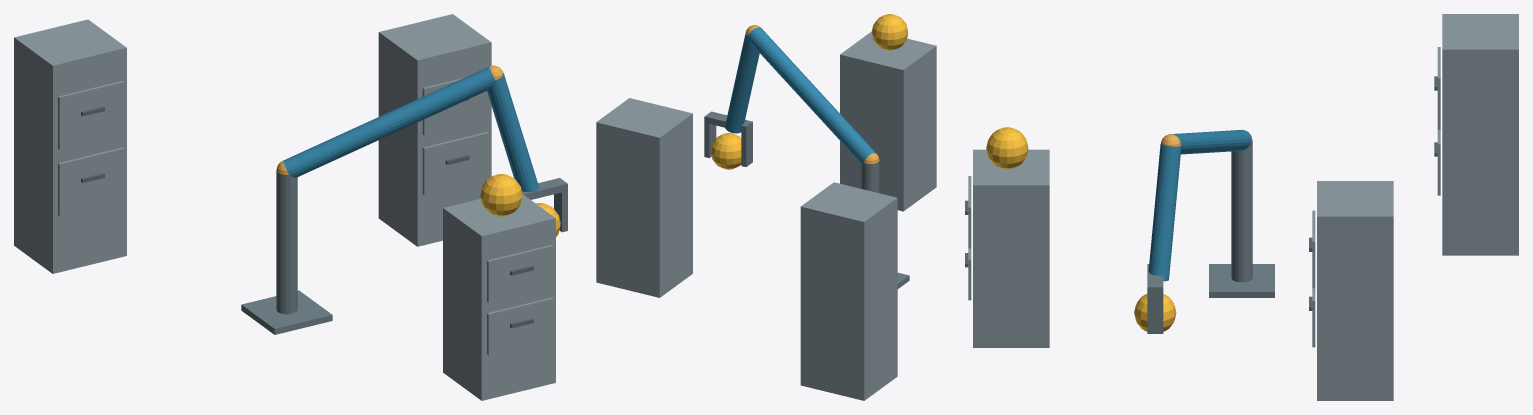
3 views of the same model, side by side, from view 1: azimuth 30°, elevation 25°; view 2: azimuth 150°, elevation 25°; view 3: azimuth 270°, elevation 25° (orthographic). The views are drawn at different scales.
Visible parts, largest first — view 1: cabinet_3 body, cabinet_1 body, cabinet_2 body, moving link 1, cabinet_3 drawer front.001, cabinet_3 drawer front, cabinet_2 drawer front, fixed post, cabinet_1 drawer front.001, cabinet_1 drawer front, moving link 2, pedestal (+3 smaller); view 2: cabinet_3 body, cabinet_2 body, cabinet_1 body, moving link 1, moving link 2, released ball_1, ball ball_2, fixed post, gripper finger -1, gripper bridge, gripper finger 1; view 3: cabinet_3 body, cabinet_2 body, cabinet_1 body, fixed post, moving link 2, pedestal, moving link 1, released ball_1, ball ball_2, gripper finger 1.
Part boxes in pixels (left/top/right/bottom): cabinet_3 body: left=14, top=19, right=126, bottom=273; cabinet_1 body: left=443, top=194, right=555, bottom=400; cabinet_2 body: left=378, top=14, right=491, bottom=246; moving link 1: left=283, top=66, right=495, bottom=177; cabinet_3 drawer front.001: left=58, top=80, right=124, bottom=149; cabinet_3 drawer front: left=58, top=147, right=124, bottom=216; cabinet_2 drawer front: left=422, top=131, right=489, bottom=195; fixed post: left=276, top=171, right=297, bottom=314; cabinet_1 drawer front.001: left=487, top=244, right=553, bottom=302; cabinet_1 drawer front: left=487, top=297, right=553, bottom=355; moving link 2: left=487, top=73, right=538, bottom=191; pedestal: left=241, top=290, right=332, bottom=334; cabinet_3 body: left=800, top=182, right=897, bottom=400; cabinet_2 body: left=596, top=98, right=692, bottom=297; cabinet_1 body: left=840, top=31, right=936, bottom=211; moving link 1: left=747, top=27, right=876, bottom=163; moving link 2: left=725, top=32, right=759, bottom=133; released ball_1: left=872, top=14, right=908, bottom=50; ball ball_2: left=710, top=133, right=741, bottom=169; fixed post: left=861, top=161, right=879, bottom=193; gripper finger -1: left=741, top=128, right=752, bottom=166; gripper bridge: left=704, top=111, right=752, bottom=132; gripper finger 1: left=704, top=122, right=716, bottom=158; cabinet_3 body: left=1442, top=14, right=1518, bottom=255; cabinet_2 body: left=1317, top=181, right=1393, bottom=400; cabinet_1 body: left=973, top=149, right=1049, bottom=347; fixed post: left=1231, top=140, right=1252, bottom=282; moving link 2: left=1148, top=144, right=1181, bottom=281; pedestal: left=1209, top=264, right=1274, bottom=297; moving link 1: left=1172, top=130, right=1251, bottom=154; released ball_1: left=986, top=127, right=1028, bottom=169; ball ball_2: left=1134, top=294, right=1176, bottom=331; gripper finger 1: left=1147, top=294, right=1163, bottom=333.
Size of the model in its own units: 1.62 by 0.9661 by 2.1.
